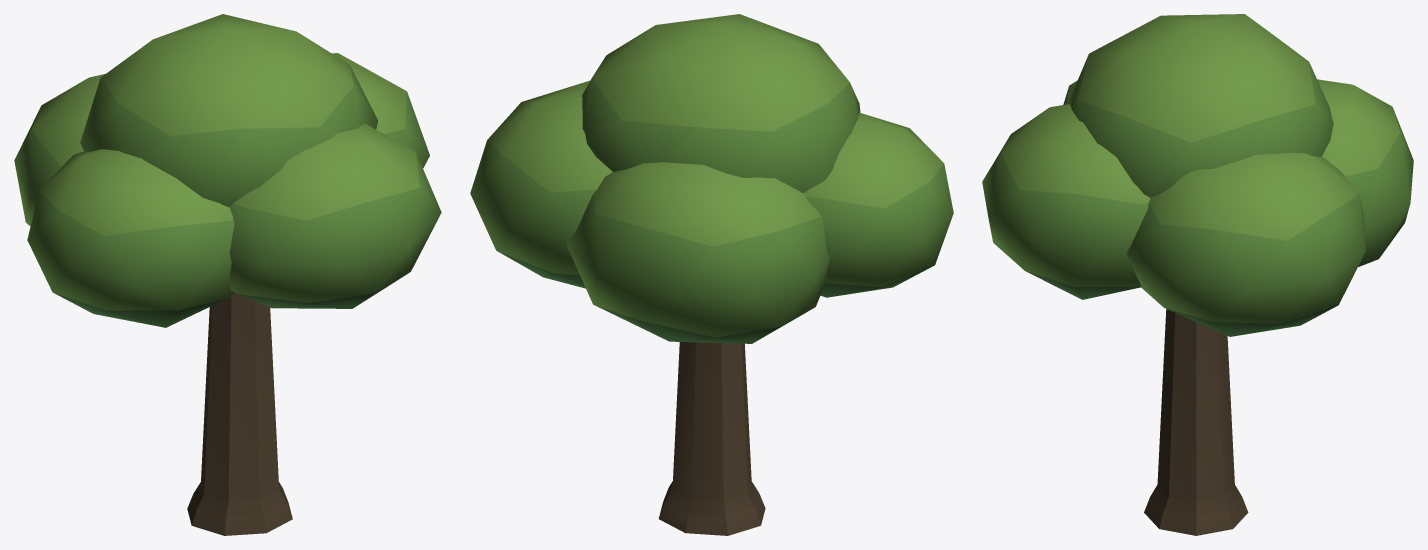
The model's file is SM_Tree_Oak_Large01.fbx.
The picture shows the model from 3 angles, left to right: view 1: azimuth 30°, elevation 25°; view 2: azimuth 150°, elevation 25°; view 3: azimuth 270°, elevation 25°; orthographic projection.
Visible parts, largest first — view 1: SM_Tree_Oak_Large01; view 2: SM_Tree_Oak_Large01; view 3: SM_Tree_Oak_Large01.
Part boxes in pixels (<box>): SM_Tree_Oak_Large01: <box>14,14,441,535</box>; SM_Tree_Oak_Large01: <box>470,14,953,535</box>; SM_Tree_Oak_Large01: <box>982,14,1413,535</box>.
Size of the model in its own units: 21.55 by 24.74 by 20.01.
Materials: 1 (1 with a texture image).
